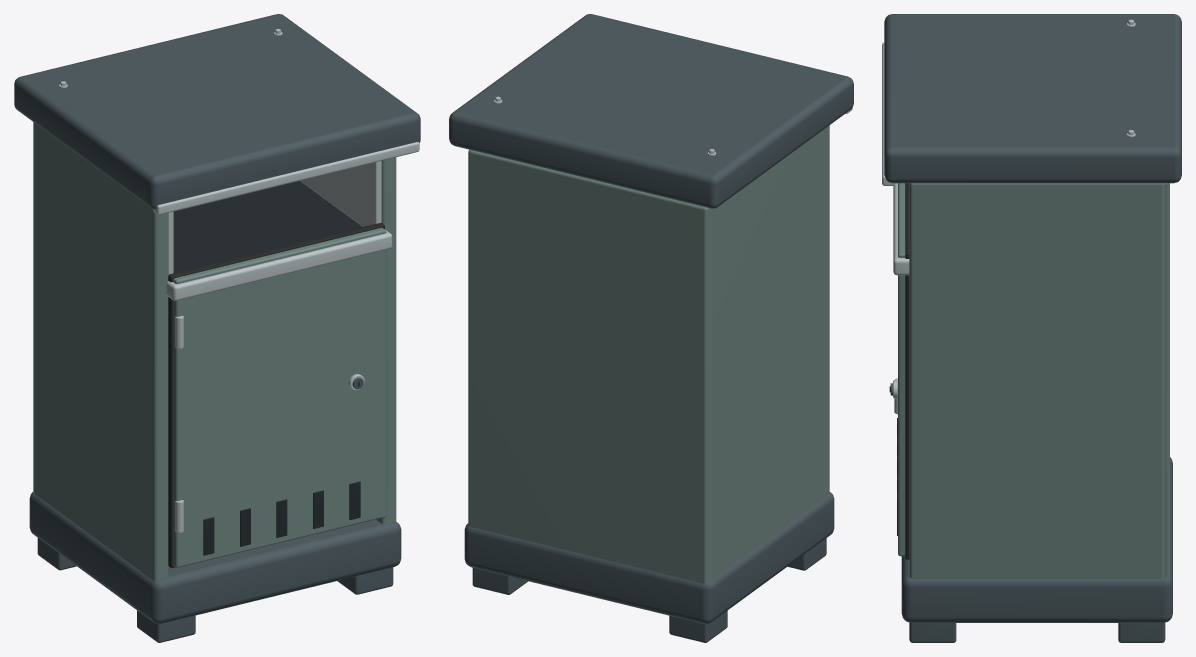
File: city-litter-bin.glb
The picture shows the model from 3 angles, left to right: view 1: azimuth 30°, elevation 25°; view 2: azimuth 150°, elevation 25°; view 3: azimuth 270°, elevation 25°; orthographic projection. The views are drawn at different scales.
Parts seen in each view (by area): view 1: Front maintenance door folded metal panel, Side folded enclosure, Overhanging rain hood, Base plinth, Opening liner floor, Side folded enclosure.001, Rolled opening lower lip, Opening side reveal.001, Hood drip edge, Front maintenance door inset seal, Ground anchor foot, Ground anchor foot.002 (+1 smaller); view 2: Rear enclosure, Overhanging rain hood, Side folded enclosure, Base plinth, Ground anchor foot.001, Ground anchor foot.003; view 3: Side folded enclosure.001, Overhanging rain hood, Base plinth, Front maintenance door folded metal panel, Rear enclosure, Front maintenance door inset seal, Ground anchor foot.002, Ground anchor foot.003, Rolled opening lower lip, Hood drip edge.
Part boxes in pixels (x1=…): Front maintenance door folded metal panel: x1=173, y1=227, x2=386, y2=567; Side folded enclosure: x1=34, y1=123, x2=168, y2=580; Overhanging rain hood: x1=14, y1=14, x2=420, y2=209; Base plinth: x1=29, y1=492, x2=401, y2=623; Opening liner floor: x1=173, y1=181, x2=361, y2=272; Side folded enclosure.001: x1=299, y1=157, x2=396, y2=524; Rolled opening lower lip: x1=166, y1=230, x2=392, y2=300; Opening side reveal.001: x1=300, y1=161, x2=381, y2=226; Hood drip edge: x1=153, y1=142, x2=419, y2=214; Front maintenance door inset seal: x1=168, y1=222, x2=384, y2=567; Ground anchor foot: x1=137, y1=610, x2=195, y2=642; Ground anchor foot.002: x1=337, y1=567, x2=393, y2=594; Rear enclosure: x1=468, y1=149, x2=709, y2=583; Overhanging rain hood: x1=449, y1=14, x2=853, y2=208; Side folded enclosure: x1=709, y1=125, x2=829, y2=580; Base plinth: x1=464, y1=492, x2=834, y2=623; Ground anchor foot.001: x1=669, y1=610, x2=727, y2=642; Ground anchor foot.003: x1=472, y1=568, x2=527, y2=594; Side folded enclosure.001: x1=909, y1=183, x2=1164, y2=578; Overhanging rain hood: x1=884, y1=14, x2=1181, y2=183; Base plinth: x1=901, y1=457, x2=1172, y2=622; Front maintenance door folded metal panel: x1=898, y1=183, x2=905, y2=556; Rear enclosure: x1=1164, y1=183, x2=1169, y2=578; Front maintenance door inset seal: x1=905, y1=183, x2=909, y2=559; Ground anchor foot.002: x1=909, y1=622, x2=956, y2=642; Ground anchor foot.003: x1=1118, y1=622, x2=1165, y2=642; Rolled opening lower lip: x1=893, y1=183, x2=909, y2=275; Hood drip edge: x1=882, y1=42, x2=894, y2=185.
Bounding box in the file's own units: 0.63 × 1.07 × 0.5745.
